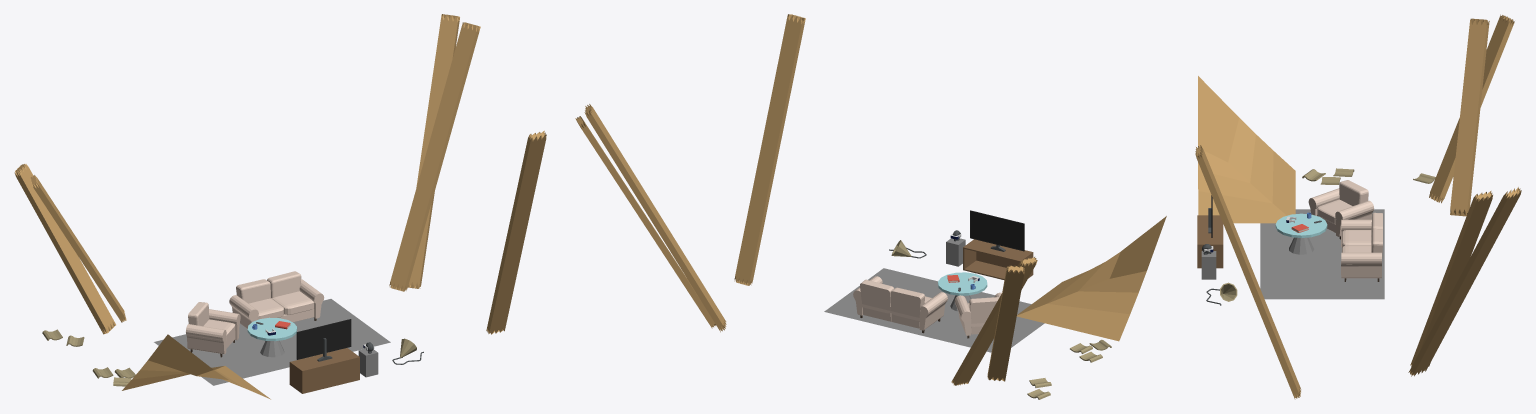
Rendered from Building11Inside.fbx.
3 renders of one model, left to right at view 1: azimuth 30°, elevation 25°; view 2: azimuth 150°, elevation 25°; view 3: azimuth 270°, elevation 25°, orthographic. The views are drawn at different scales.
Visible parts, largest first — view 1: Cube.223; view 2: Cube.223; view 3: Cube.223.
Part boxes in pixels (x1,y1,x2,y2): Cube.223: (14, 14, 546, 399); Cube.223: (575, 14, 1166, 399); Cube.223: (1195, 14, 1521, 399).
Size of the model in its own units: 1348 by 671 by 812.
